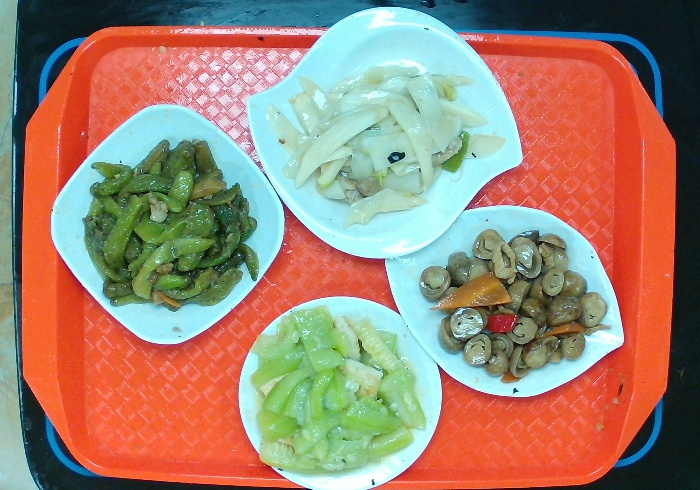RJxy-Da_Du_Pan: (384, 201, 626, 400)
RJxy-Shuang_Jiao_Pan: (243, 5, 527, 262)
RJxy-Si_Fang_Wan: (42, 99, 286, 352)
RJxy-Xiao_Yuan_Die: (228, 290, 444, 488)
